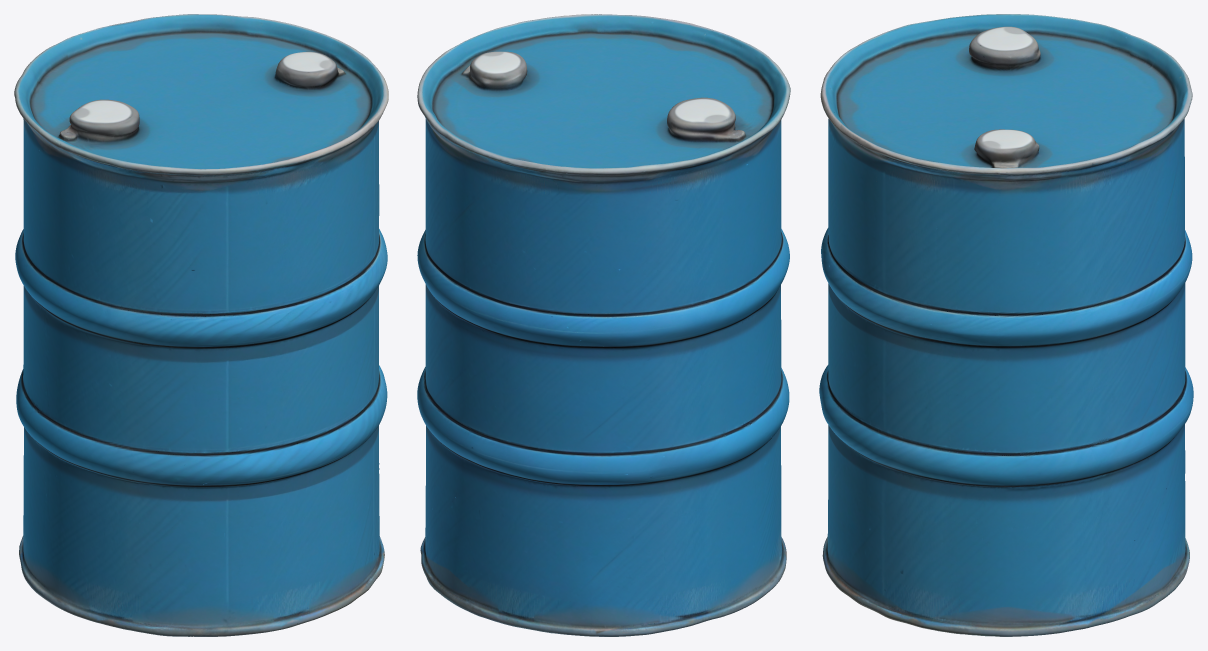
File: BlueBarrel.fbx
3 views of the same model, side by side, from view 1: azimuth 30°, elevation 25°; view 2: azimuth 150°, elevation 25°; view 3: azimuth 270°, elevation 25° (orthographic).
Visible parts, largest first — view 1: Mesh_0; view 2: Mesh_0; view 3: Mesh_0.
Part boxes in pixels (x1,y1,x2,y2): Mesh_0: (14, 14, 388, 636); Mesh_0: (417, 14, 790, 636); Mesh_0: (819, 14, 1193, 636).
Bounding box in the file's own units: 143 × 200 × 143.
1 material, 1 textured.
